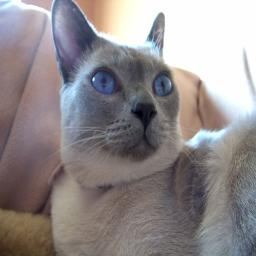catnose: (131, 100, 156, 128)
